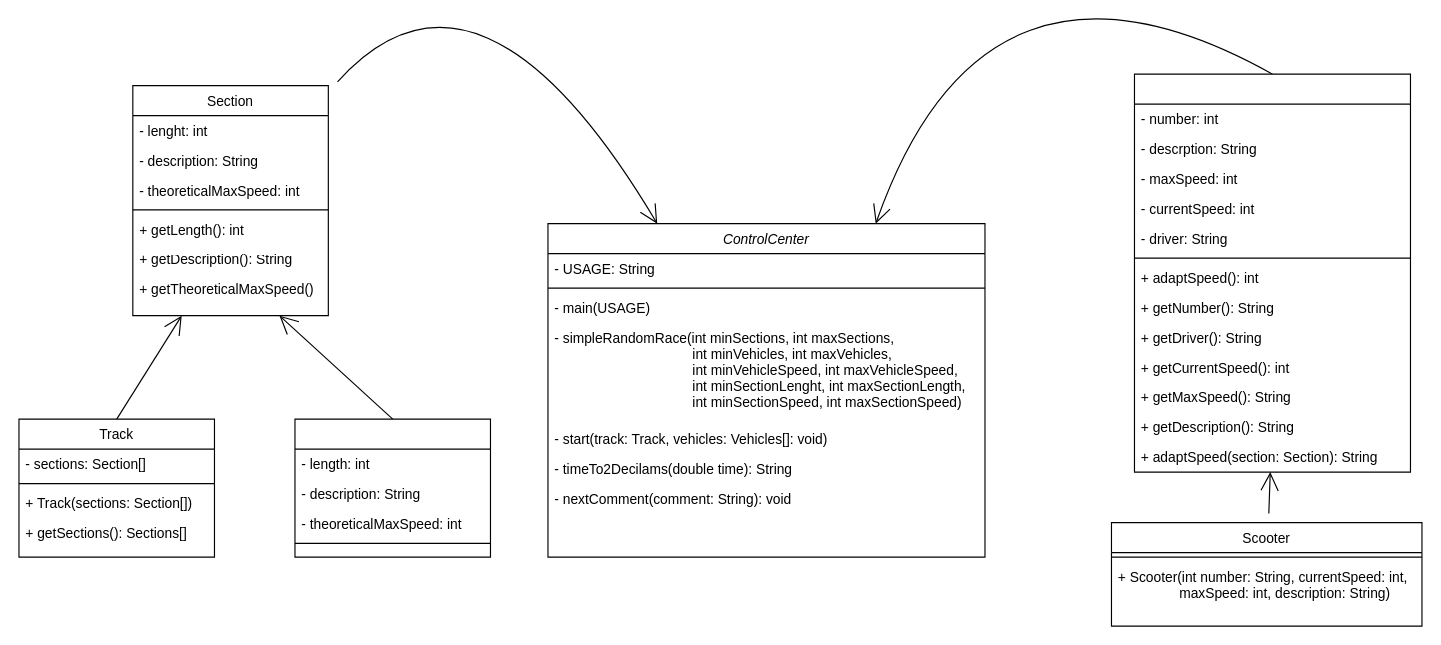
Some shapes in this 1441 by 645 pixel diagram are drawn without their labels. The shapes that lost their labels are listed below. From the top down, each one's box as (x1, y1, x2, y2) in pixels, then its label:
(1133, 73, 1410, 472): Vehicle
(294, 418, 490, 557): StandardIndoorSection
